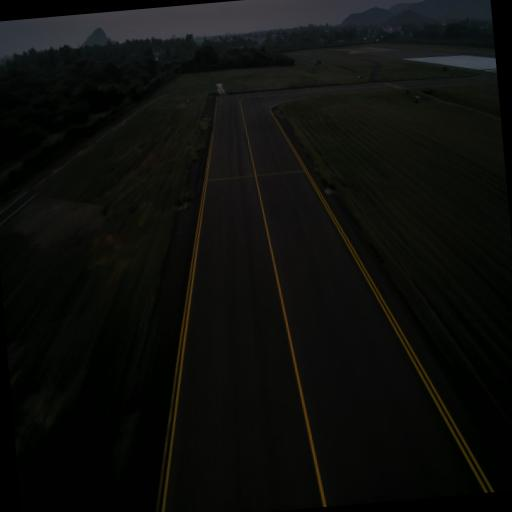on: (326, 184, 332, 194), (182, 200, 188, 209)
